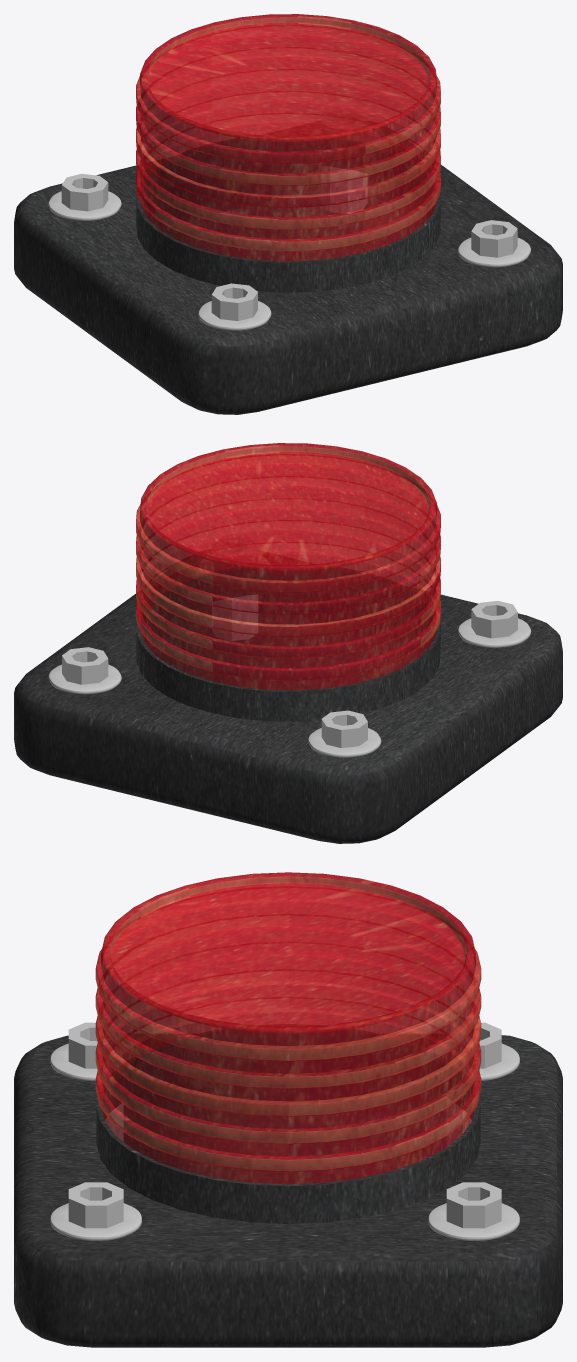
File: Siren.fbx
3 views of the same model, one above another, from view 1: azimuth 30°, elevation 25°; view 2: azimuth 150°, elevation 25°; view 3: azimuth 270°, elevation 25° (orthographic). The views are drawn at different scales.
Visible parts, largest first — view 1: MetalBottom, PlasticTop, Nut3, Nut3.001, Nut1, Nut2; view 2: MetalBottom, PlasticTop, Nut3, Nut2, Nut3.001, Nut1; view 3: MetalBottom, PlasticTop, Nut2, Nut1, Nut3.001, Nut3.
Part boxes in pixels (box(x1,y1,x2,y2)): MetalBottom: box(14, 139, 562, 414); PlasticTop: box(136, 14, 440, 261); Nut3: box(48, 173, 121, 220); Nut3.001: box(198, 283, 271, 330); Nut1: box(458, 220, 530, 267); Nut2: box(321, 166, 367, 213); MetalBottom: box(14, 568, 562, 843); PlasticTop: box(136, 443, 440, 690); Nut3: box(308, 710, 381, 757); Nut2: box(48, 647, 121, 694); Nut3.001: box(458, 601, 531, 647); Nut1: box(212, 595, 257, 640); MetalBottom: box(14, 1026, 562, 1347); PlasticTop: box(95, 872, 481, 1184); Nut2: box(428, 1182, 519, 1240); Nut1: box(50, 1182, 141, 1240); Nut3.001: box(50, 1022, 123, 1141); Nut3: box(447, 1022, 519, 1145).
Bounding box in the file's own units: 20 × 11.57 × 20.
